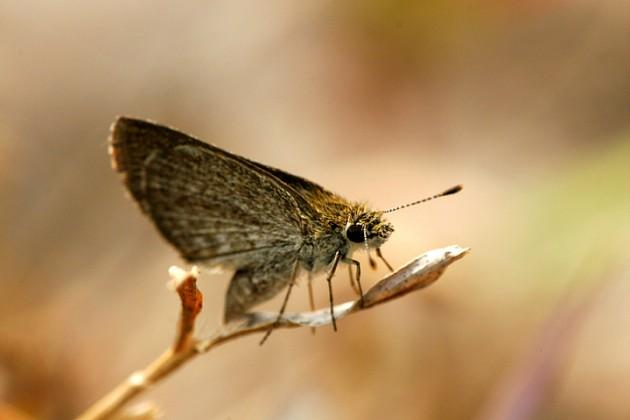Hesperiidae: (109, 114, 460, 324)
